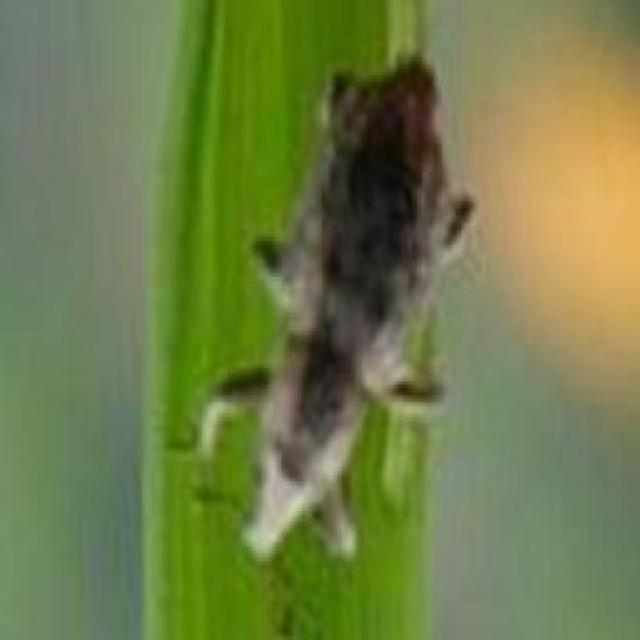rice-bug: (221, 51, 485, 564)
